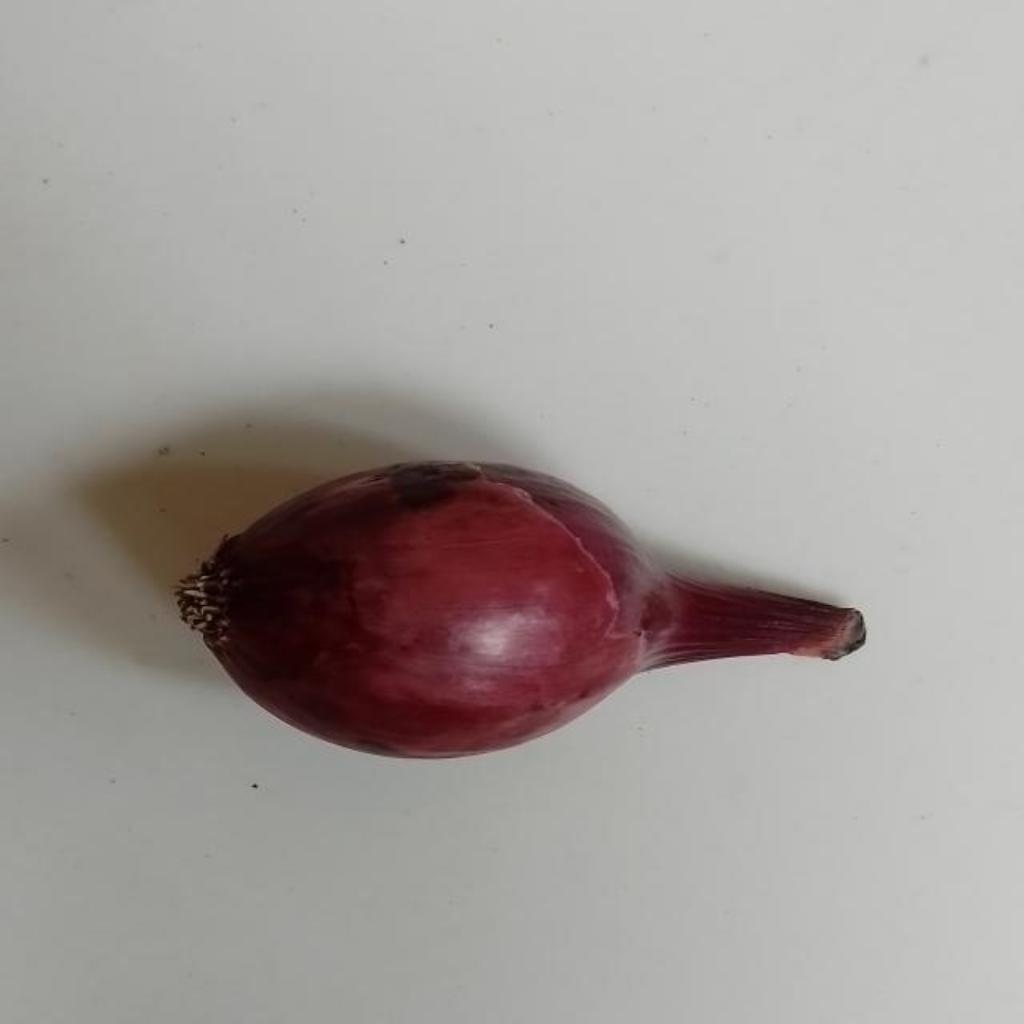Onion: (178, 462, 866, 758)
